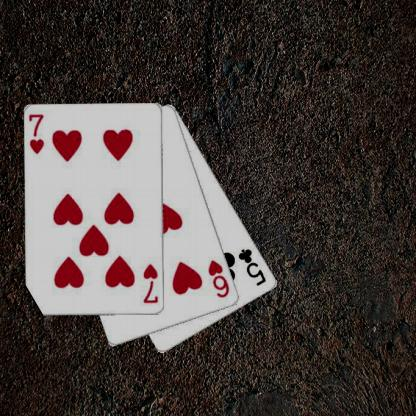5C: (235, 246, 268, 287)
6H: (206, 258, 230, 300)
7H: (141, 261, 159, 305), (27, 112, 45, 155)
